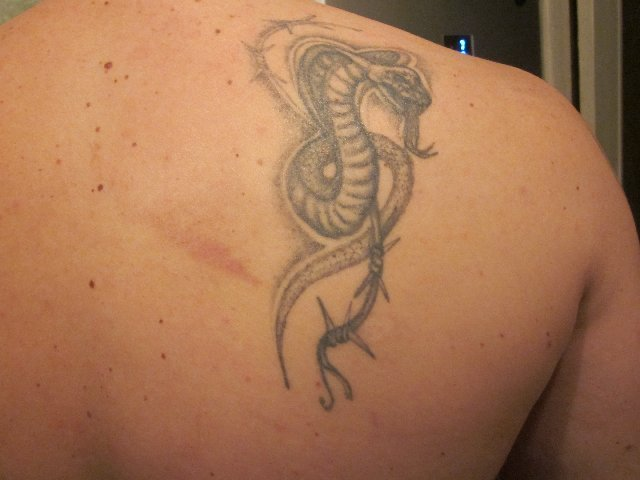tatu7_zmeya: (246, 12, 445, 429)
